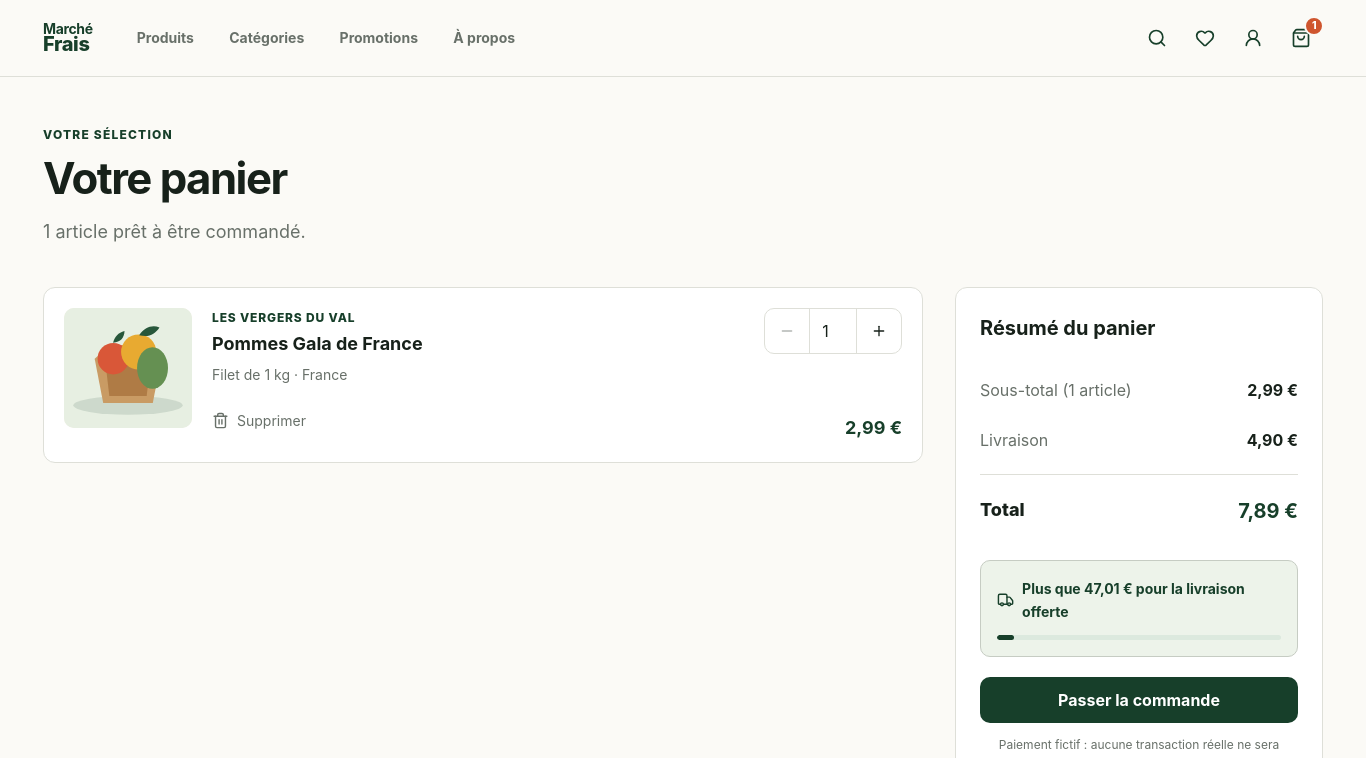
it: CartPage › removes a product from the cart
This screenshot has width=1366, height=758.
What coordinates should you click on to do the following:
click the button with aria-label "Supprimer Pommes Gala de France du panier"
I would click on:
 (263, 420)
Its box is left=212, top=398, right=314, bottom=442.
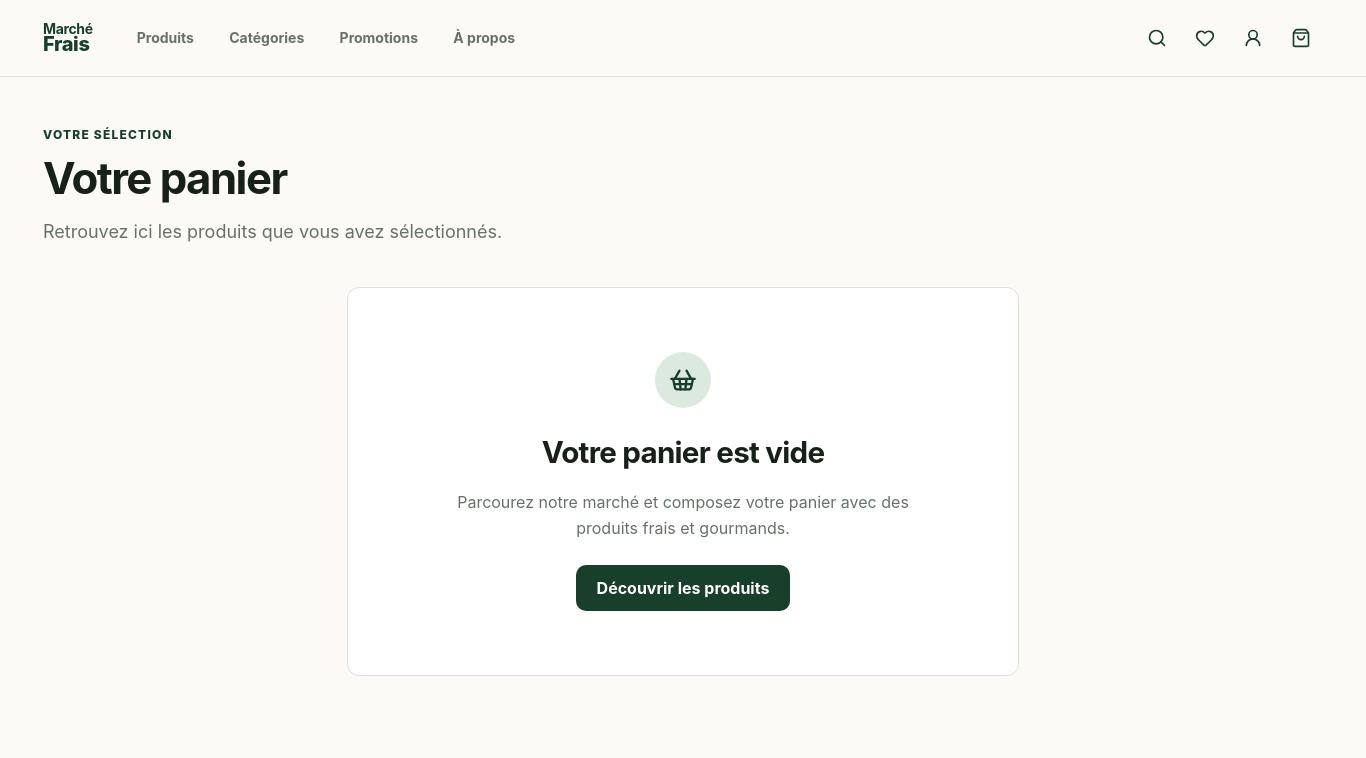
Now the heading "Votre panier est vide" is shown, box left=542, top=428, right=824, bottom=477
